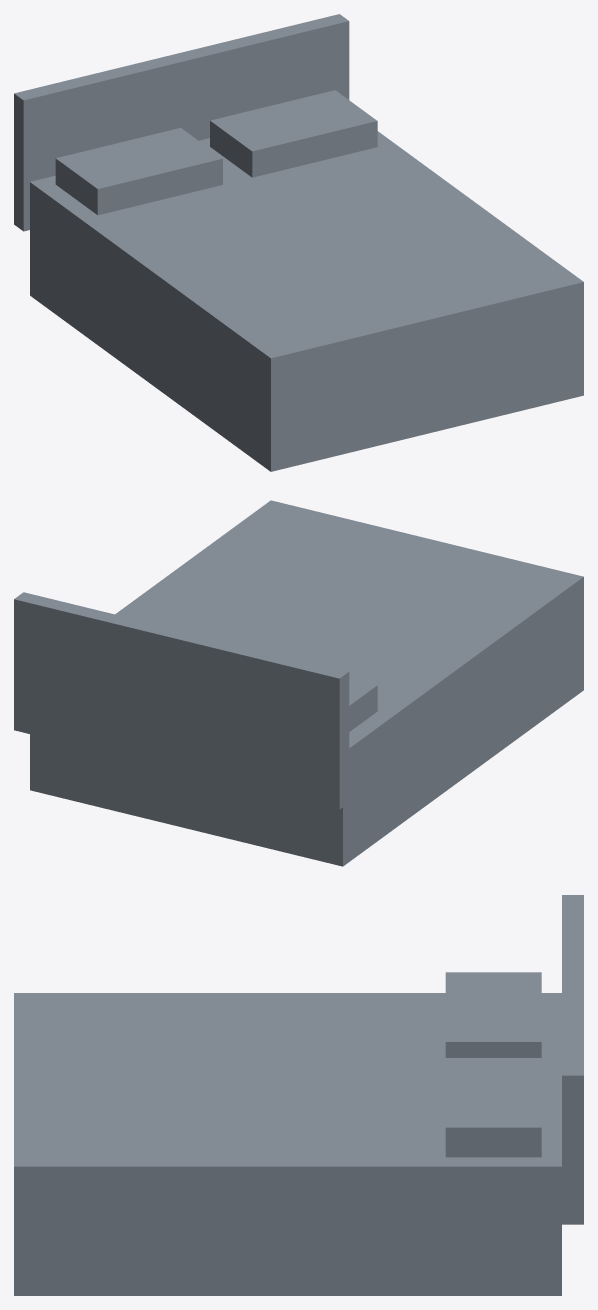
Rendered from bed.glb.
The picture shows the model from 3 angles, top to bottom: view 1: azimuth 30°, elevation 25°; view 2: azimuth 150°, elevation 25°; view 3: azimuth 270°, elevation 25°; orthographic projection. The views are drawn at different scales.
Parts seen in each view (by area): view 1: bed; view 2: bed; view 3: bed.
Part boxes in pixels (bbox=[...]): bed: bbox=[14, 14, 583, 471]; bed: bbox=[14, 500, 583, 866]; bed: bbox=[14, 895, 583, 1295].
Bounding box in the file's own units: 1.56 × 0.9 × 2.08.
